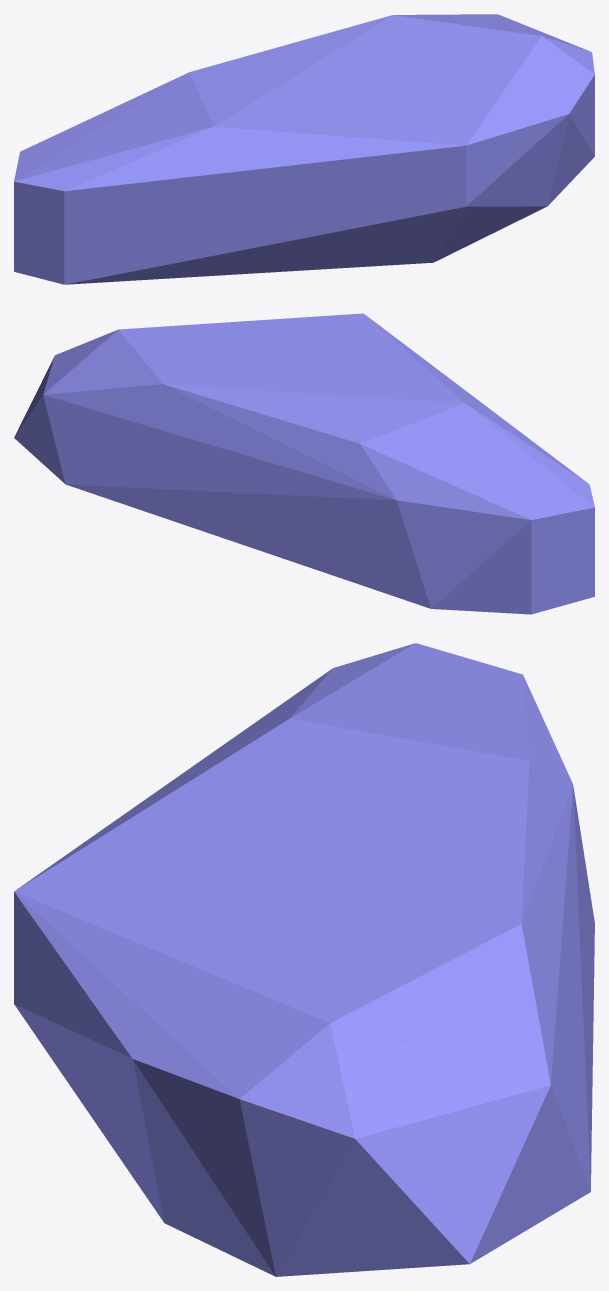
The model's file is Plate_10_Collider_01.FBX.
3 views of the same model, one above another, from view 1: azimuth 30°, elevation 25°; view 2: azimuth 150°, elevation 25°; view 3: azimuth 270°, elevation 25° (orthographic). The views are drawn at different scales.
Parts seen in each view (by area): view 1: COLLIDER1; view 2: COLLIDER1; view 3: COLLIDER1.
Boxes of the visible parts, x1,y1,x2,y2 form: COLLIDER1: [14, 14, 594, 284]; COLLIDER1: [14, 313, 594, 614]; COLLIDER1: [14, 643, 594, 1276].
Bounding box in the file's own units: 274 × 66.88 × 131.
